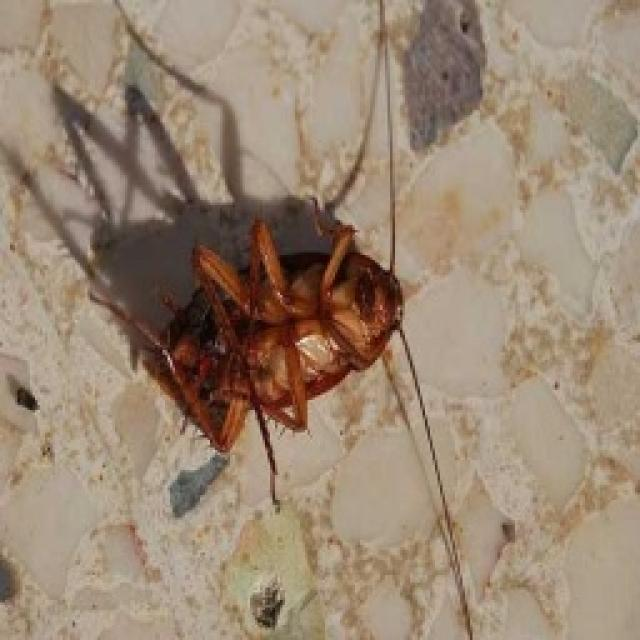cockroach: (75, 216, 456, 502)
